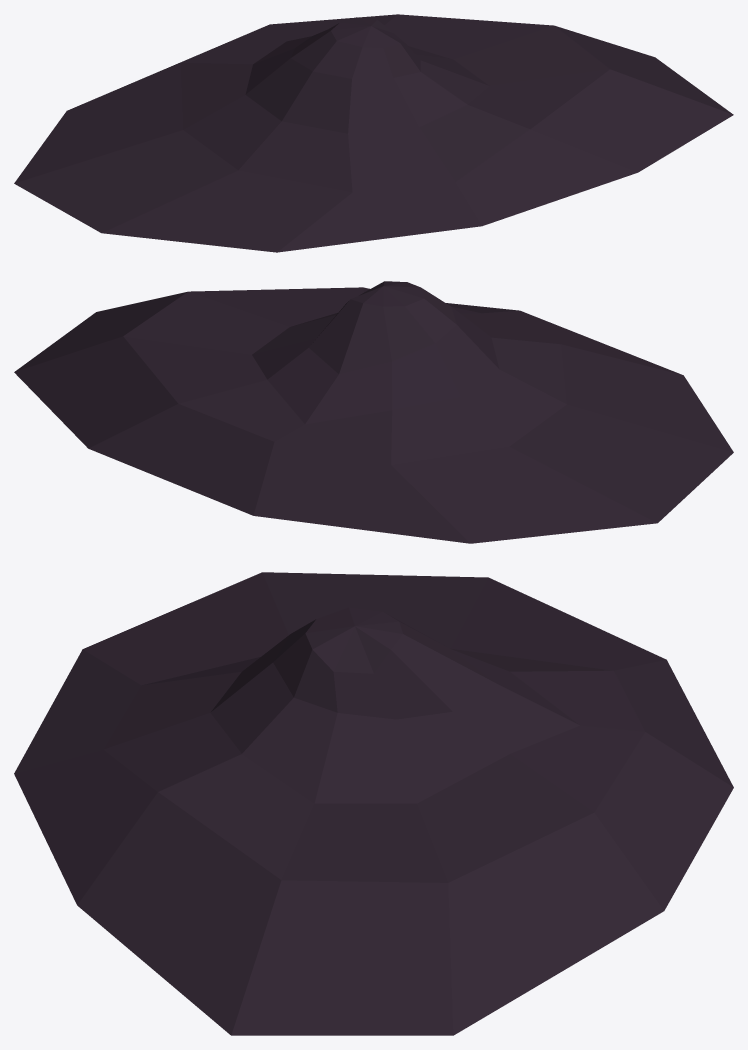
The model's file is GarbageMound02.fbx.
3 renders of one model, top to bottom at view 1: azimuth 30°, elevation 25°; view 2: azimuth 150°, elevation 25°; view 3: azimuth 270°, elevation 25°, orthographic. The views are drawn at different scales.
Parts seen in each view (by area): view 1: Sphere; view 2: Sphere; view 3: Sphere.
Part boxes in pixels (left/top/right/bottom): Sphere: left=14, top=14, right=733, bottom=252; Sphere: left=14, top=281, right=733, bottom=543; Sphere: left=14, top=572, right=733, bottom=1035.
Size of the model in its own units: 1072 by 219 by 754.
